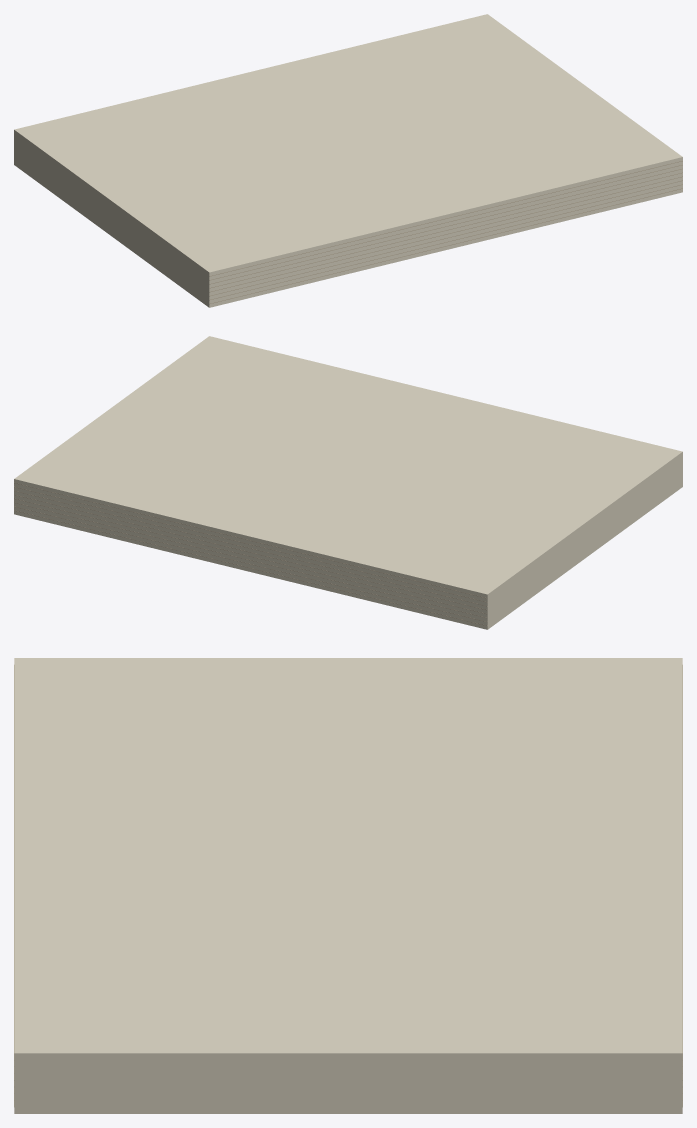
File: paper.glb
3 renders of one model, top to bottom at view 1: azimuth 30°, elevation 25°; view 2: azimuth 150°, elevation 25°; view 3: azimuth 270°, elevation 25°, orthographic. The views are drawn at different scales.
Visible parts, largest first — view 1: BookBlockPaper, BookBlockLeaves_4_1, BookBlockLeaves_7_1, BookBlockLeaves_3_1, BookBlockLeaves_8_1, BookBlockLeaves_1_1, BookBlockLeaves_2_1, BookBlockLeaves_5_1, BookBlockLeaves_6_1; view 2: BookBlockPaper, BookBlockLeaves_4_-1, BookBlockLeaves_7_-1, BookBlockLeaves_3_-1, BookBlockLeaves_8_-1, BookBlockLeaves_1_-1, BookBlockLeaves_2_-1, BookBlockLeaves_5_-1, BookBlockLeaves_6_-1; view 3: BookBlockPaper.
Boxes of the visible parts, <box> form: BookBlockPaper: <box>14,14,682,307</box>; BookBlockLeaves_4_1: <box>209,176,682,292</box>; BookBlockLeaves_7_1: <box>209,164,682,280</box>; BookBlockLeaves_3_1: <box>209,180,682,296</box>; BookBlockLeaves_8_1: <box>209,161,682,276</box>; BookBlockLeaves_1_1: <box>209,188,682,303</box>; BookBlockLeaves_2_1: <box>209,184,682,300</box>; BookBlockLeaves_5_1: <box>209,172,682,288</box>; BookBlockLeaves_6_1: <box>209,168,682,284</box>; BookBlockPaper: <box>14,336,682,629</box>; BookBlockLeaves_4_-1: <box>14,498,487,614</box>; BookBlockLeaves_7_-1: <box>14,486,487,602</box>; BookBlockLeaves_3_-1: <box>14,502,487,618</box>; BookBlockLeaves_8_-1: <box>14,483,487,598</box>; BookBlockLeaves_1_-1: <box>14,510,487,625</box>; BookBlockLeaves_2_-1: <box>14,506,487,622</box>; BookBlockLeaves_5_-1: <box>14,494,487,610</box>; BookBlockLeaves_6_-1: <box>14,490,487,606</box>; BookBlockPaper: <box>14,658,682,1113</box>.
Size of the model in its own units: 0.21 by 0.015 by 0.1502.
